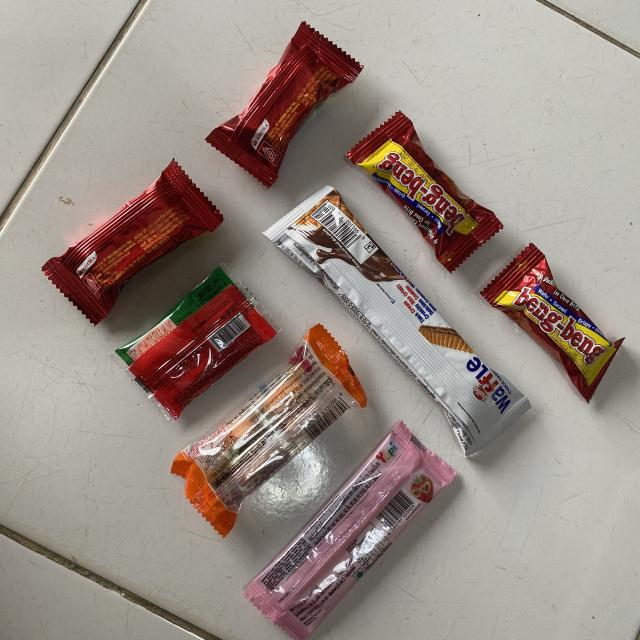plastik: (264, 186, 530, 456), (244, 422, 455, 640), (171, 325, 366, 536), (42, 160, 224, 324), (206, 22, 362, 188), (115, 266, 276, 420), (348, 111, 502, 271), (481, 244, 624, 402)
